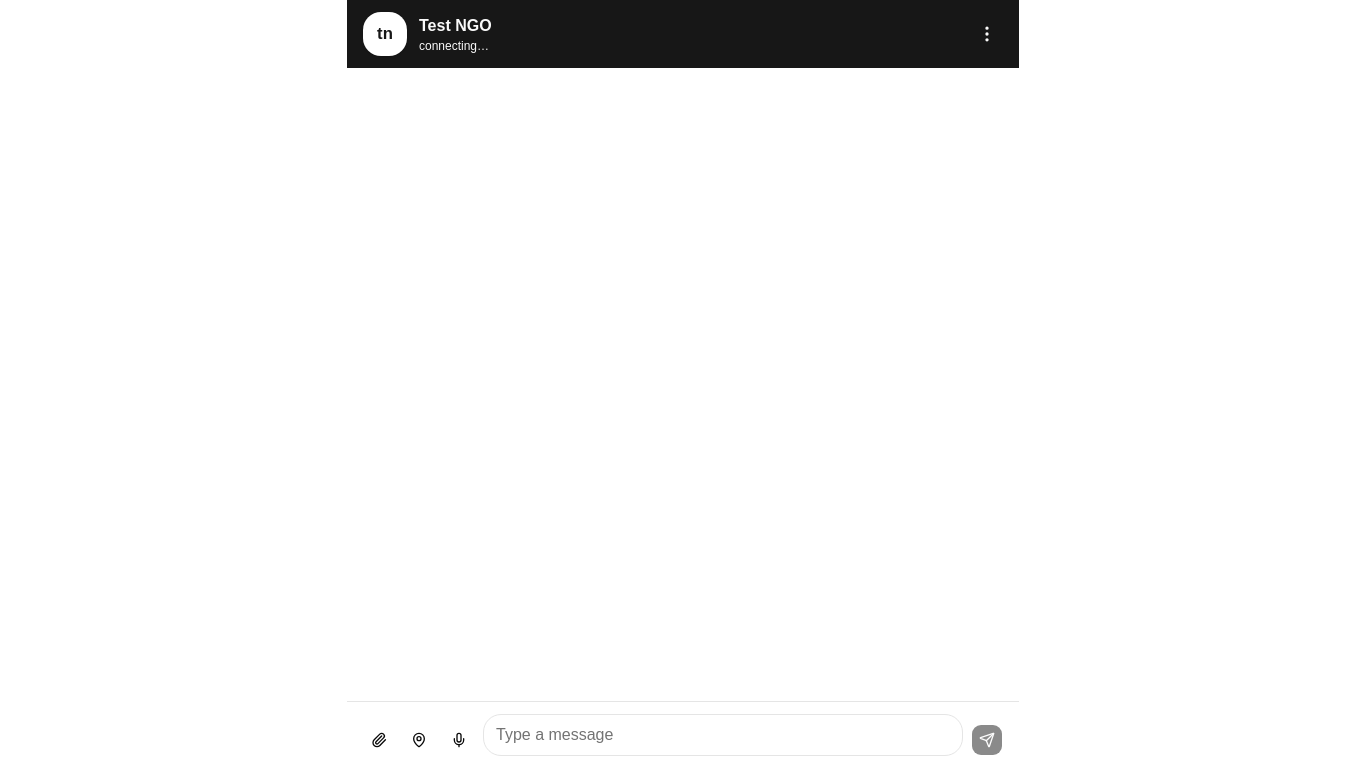
the chat header and menu › shows the contact their own profile, read-only
This screenshot has width=1366, height=768.
Expected: the text box with test id "composerInput" is shown, 483,714 -> 963,756
Click the button with test id "chatMenuButton" at [987, 34], box 971,18 -> 1003,50
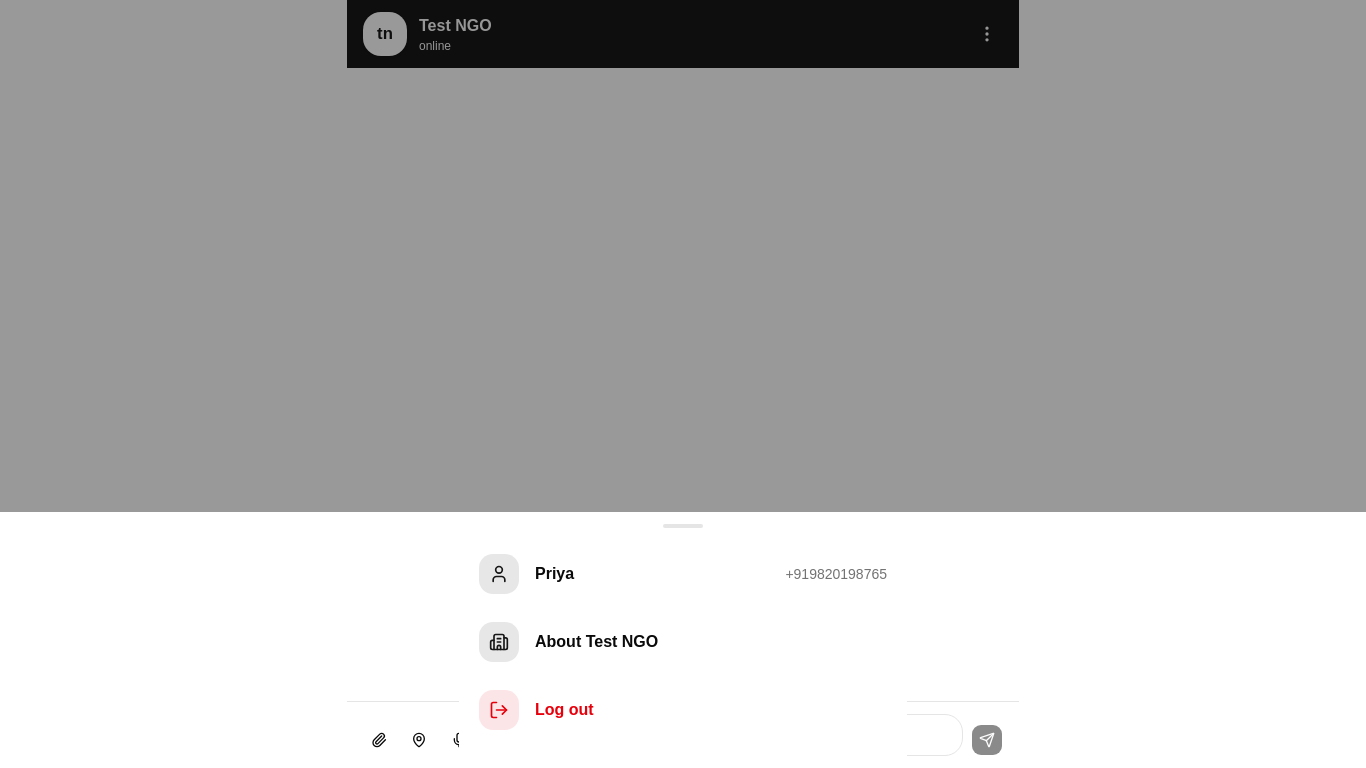
Now the element with test id "menuProfile" shows "Priya", box 535,565 -> 574,582
Now the element with test id "menuProfile" shows "+919820198765", box 785,566 -> 887,582
